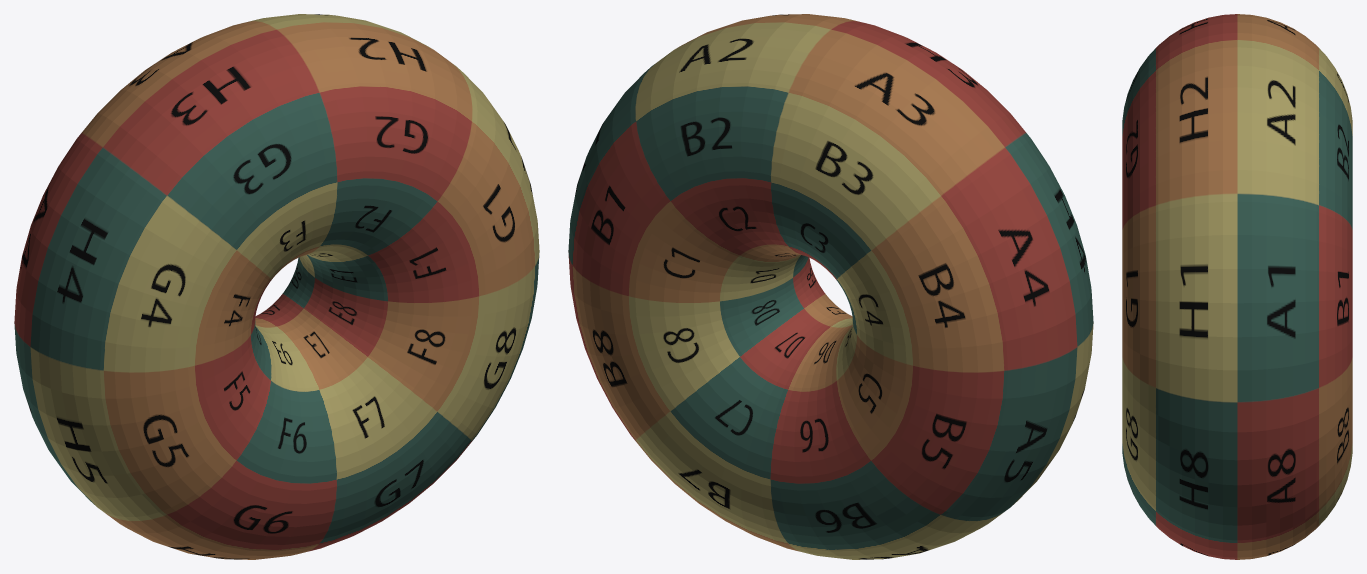
Rendered from texture_torus_R0_r20.glb.
3 views of the same model, side by side, from view 1: azimuth 30°, elevation 25°; view 2: azimuth 150°, elevation 25°; view 3: azimuth 270°, elevation 25° (orthographic). The views are drawn at different scales.
Visible parts, largest first — view 1: world; view 2: world; view 3: world.
Part boxes in pixels (x1,y1,x2,y2): world: (14, 14, 539, 559); world: (568, 14, 1093, 559); world: (1122, 14, 1352, 559).
Bounding box in the file's own units: 17.33 × 17.3 × 7.32.
1 material, 1 textured.
